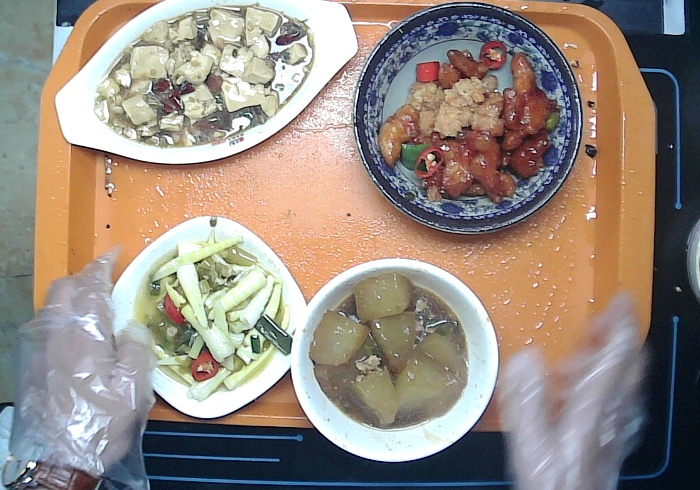ZNLD-Qing_Hua_Wan: (349, 6, 583, 233)
ZNLD-Si_Fang_Wan: (105, 212, 305, 417)
ZNLD-Tang_Wan: (291, 253, 499, 463)
ZNLD-Yu_Pan: (55, 1, 358, 164)
